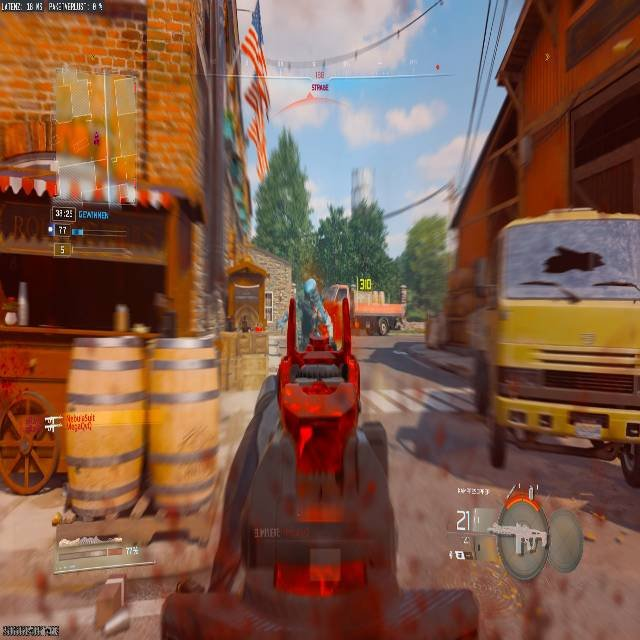player: (378, 318, 387, 335)
